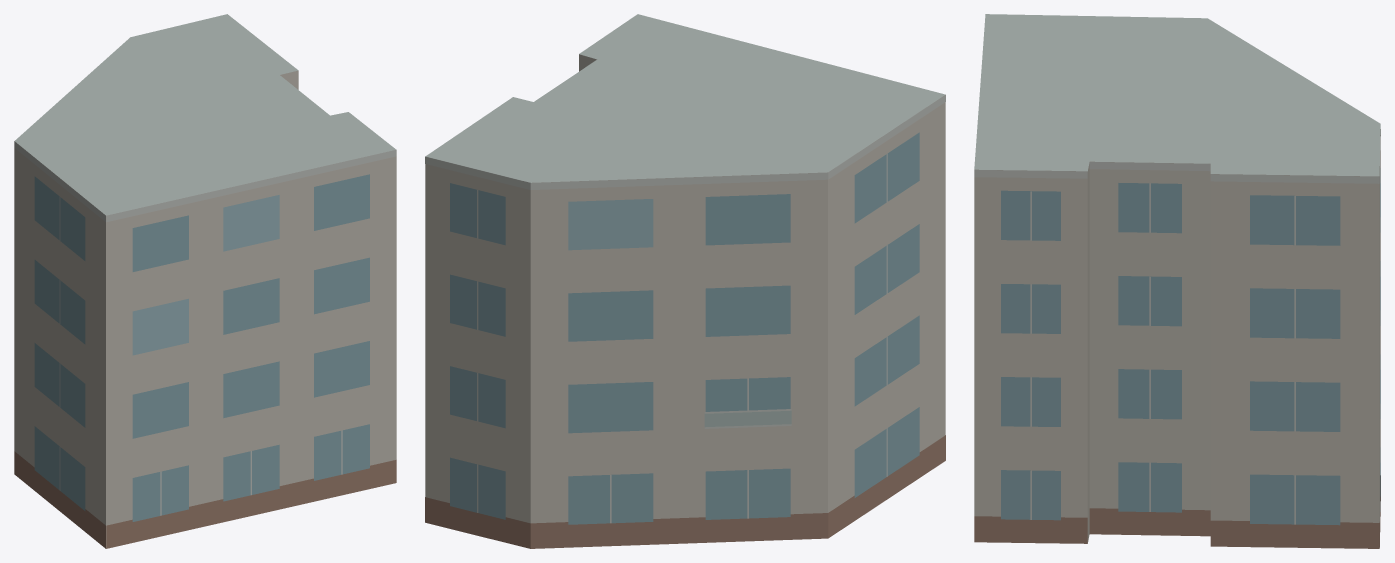
The model's file is survey-upis-32951966.glb.
3 views of the same model, side by side, from view 1: azimuth 30°, elevation 25°; view 2: azimuth 150°, elevation 25°; view 3: azimuth 270°, elevation 25° (orthographic). The views are drawn at different scales.
Parts seen in each view (by area): view 1: survey-upis-32951966.tmp; view 2: survey-upis-32951966.tmp; view 3: survey-upis-32951966.tmp.
Part boxes in pixels (left/top/right/bottom): survey-upis-32951966.tmp: left=14, top=14, right=396, bottom=548; survey-upis-32951966.tmp: left=425, top=14, right=945, bottom=548; survey-upis-32951966.tmp: left=974, top=14, right=1380, bottom=548.
Size of the model in its own units: 11.42 by 12.2 by 12.08.
